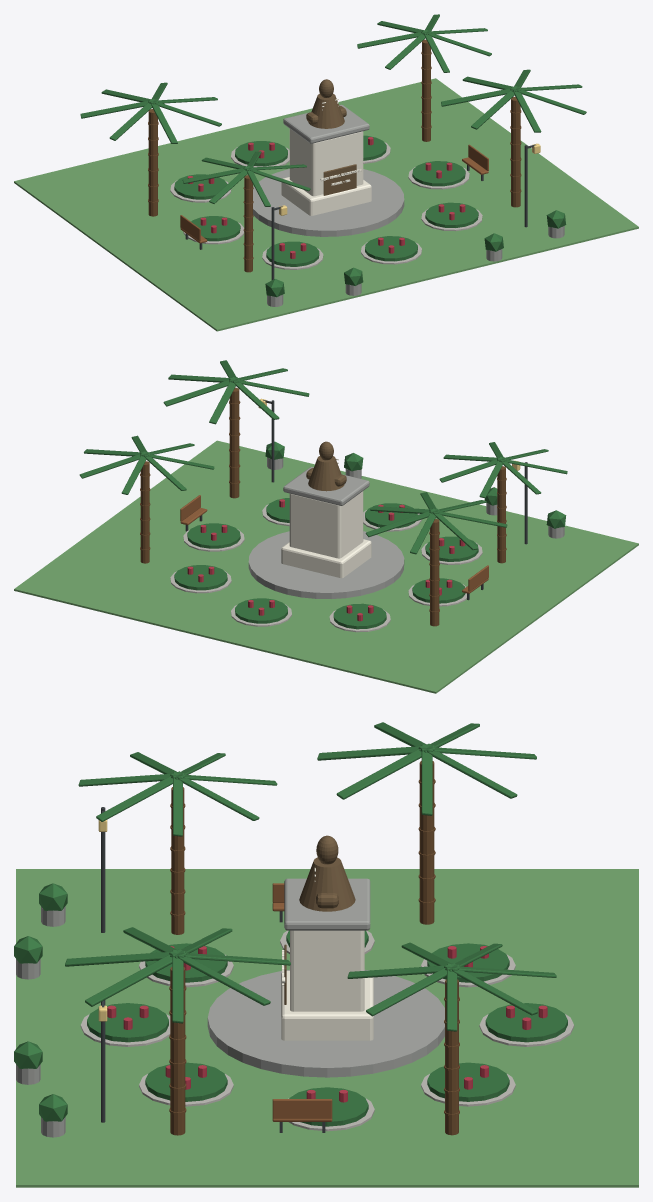
The model's file is garden.glb.
3 renders of one model, top to bottom at view 1: azimuth 30°, elevation 25°; view 2: azimuth 150°, elevation 25°; view 3: azimuth 270°, elevation 25°, orthographic. The views are drawn at different scales.
Visible parts, largest first — view 1: Formal_Garden_Lawn, Memorial_Platform, Memorial_Column, Memorial_Plinth, Memorial_Capstone, Garden_Bed, Garden_Bed.006, Garden_Bed.007, LM_Palm_04_RingedTrunk, Garden_Bed.005, LM_Palm_01_RingedTrunk, Garden_Bed.002 (+7 smaller); view 2: Formal_Garden_Lawn, Memorial_Platform, Memorial_Column, Memorial_Plinth, Memorial_Capstone, LM_Palm_04_RingedTrunk, Garden_Bed.001, Garden_Bed, Garden_Bed.002, Garden_Bed.003, LM_Palm_01_RingedTrunk, LM_Palm_02_RingedTrunk (+5 smaller); view 3: Formal_Garden_Lawn, Memorial_Platform, Memorial_Column, Memorial_Plinth, Memorial_Capstone, Garden_Bed.002, Garden_Bed.006, LM_Palm_04_RingedTrunk, Garden_Bed.001, LM_Palm_01_RingedTrunk, Memorial_Statue_Figure, Garden_Bed.007 (+26 smaller).
Part boxes in pixels (x1=…): Formal_Garden_Lawn: x1=14, y1=78, x2=638, y2=331; Memorial_Platform: x1=253, y1=169, x2=404, y2=236; Memorial_Column: x1=289, y1=129, x2=363, y2=196; Memorial_Plinth: x1=281, y1=177, x2=371, y2=215; Memorial_Capstone: x1=283, y1=104, x2=369, y2=143; Garden_Bed: x1=412, y1=161, x2=465, y2=186; Garden_Bed.006: x1=365, y1=236, x2=417, y2=261; Garden_Bed.007: x1=425, y1=202, x2=478, y2=227; LM_Palm_04_RingedTrunk: x1=511, y1=96, x2=520, y2=207; Garden_Bed.005: x1=266, y1=241, x2=319, y2=266; LM_Palm_01_RingedTrunk: x1=148, y1=109, x2=157, y2=216; Garden_Bed.002: x1=235, y1=141, x2=287, y2=166; Formal_Garden_Lawn: x1=14, y1=440, x2=638, y2=693; Memorial_Platform: x1=248, y1=531, x2=404, y2=598; Memorial_Column: x1=289, y1=491, x2=363, y2=558; Memorial_Plinth: x1=281, y1=539, x2=371, y2=578; Memorial_Capstone: x1=283, y1=467, x2=369, y2=505; LM_Palm_04_RingedTrunk: x1=229, y1=387, x2=239, y2=498; Garden_Bed.001: x1=174, y1=565, x2=227, y2=590; Garden_Bed: x1=187, y1=523, x2=240, y2=548; Garden_Bed.002: x1=235, y1=598, x2=287, y2=623; Garden_Bed.003: x1=333, y1=603, x2=386, y2=629; LM_Palm_01_RingedTrunk: x1=430, y1=519, x2=439, y2=626; LM_Palm_02_RingedTrunk: x1=140, y1=461, x2=149, y2=563; Formal_Garden_Lawn: x1=16, y1=869, x2=638, y2=1187; Memorial_Platform: x1=207, y1=969, x2=444, y2=1077; Memorial_Column: x1=290, y1=930, x2=364, y2=1011; Memorial_Plinth: x1=281, y1=970, x2=373, y2=1040; Memorial_Capstone: x1=284, y1=878, x2=370, y2=930; Garden_Bed.002: x1=485, y1=1003, x2=567, y2=1042; Garden_Bed.006: x1=87, y1=1003, x2=168, y2=1042; LM_Palm_04_RingedTrunk: x1=170, y1=967, x2=185, y2=1135; Garden_Bed.001: x1=427, y1=1062, x2=509, y2=1101; LM_Palm_01_RingedTrunk: x1=419, y1=761, x2=434, y2=924; Memorial_Statue_Figure: x1=299, y1=857, x2=355, y2=911; Garden_Bed.007: x1=145, y1=1062, x2=227, y2=1101.
Size of the model in its own units: 30 by 8.56 by 25.07.
